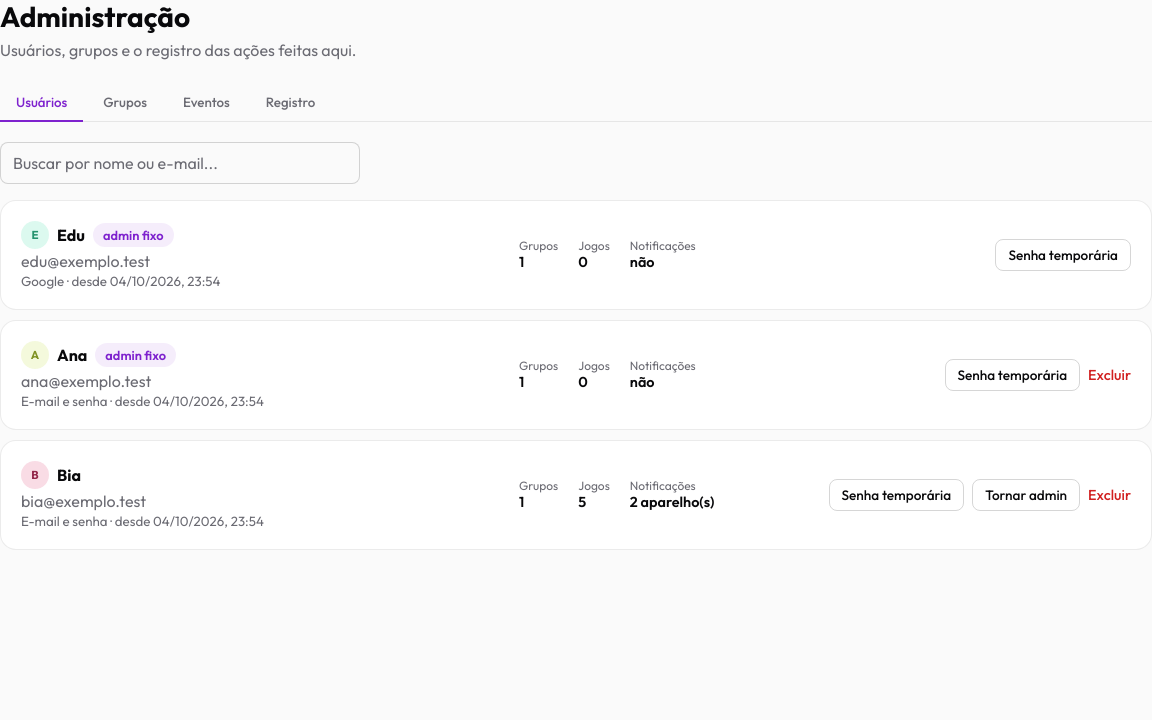
Scenario: Admin — usuários › senha temporária: confirma, mostra uma vez e some ao fechar
Expected: the text "bia@exemplo.test" is shown, [21,491,146,511]
Click the button "Senha temporária" in the row of "bia@exemplo.test": (896, 495) [829,479,964,511]
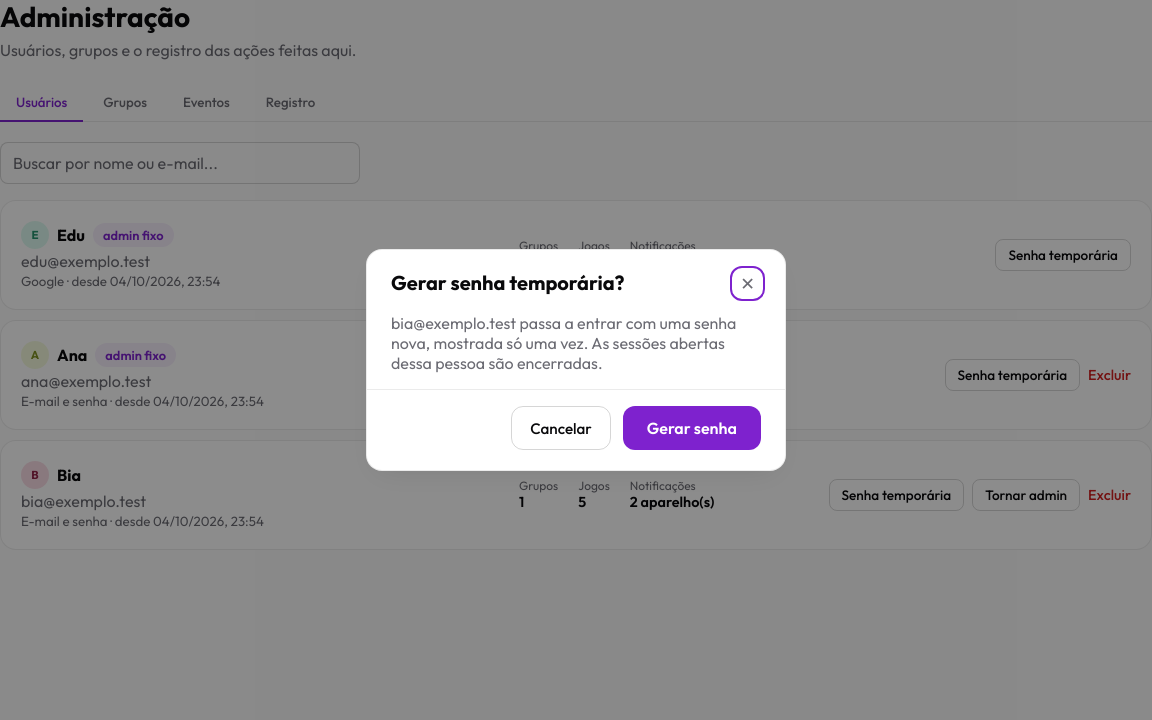
Click the button "Gerar senha": (692, 428) [623,406,761,450]
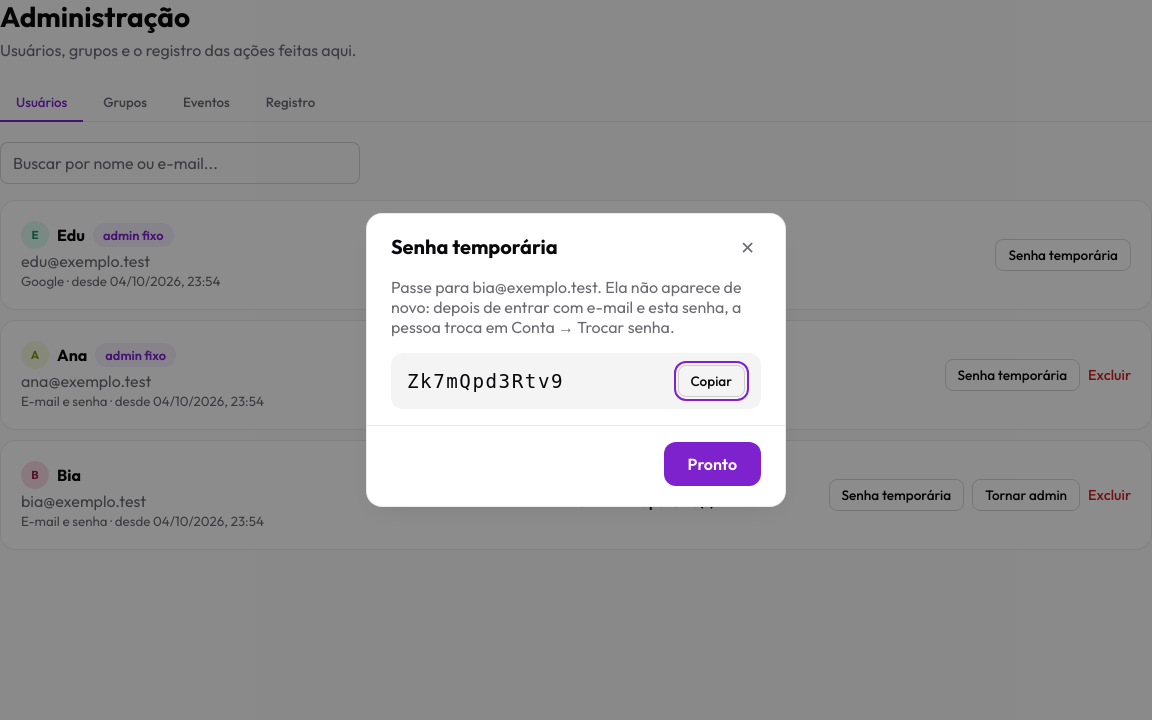
Expected: the text "Zk7mQpd3Rtv9" is shown, [407,370,564,392]
Click the button "Pronto": (712, 464) [664,442,761,486]
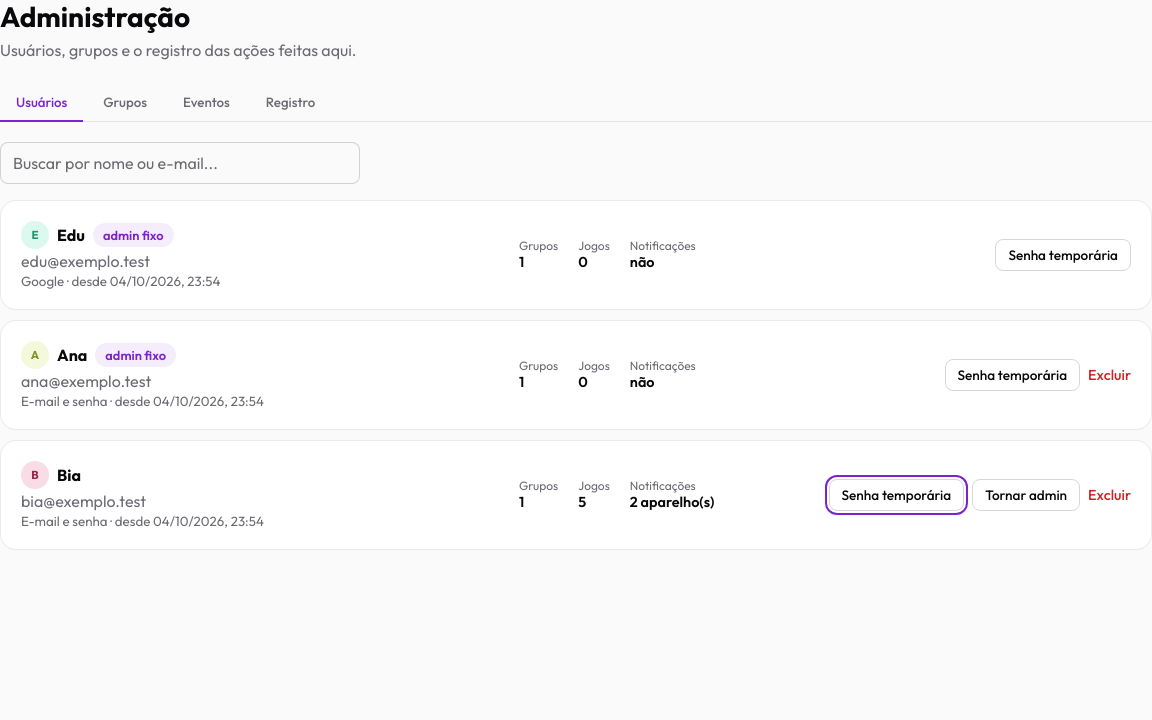
Expected: the text "Zk7mQpd3Rtv9" is gone
